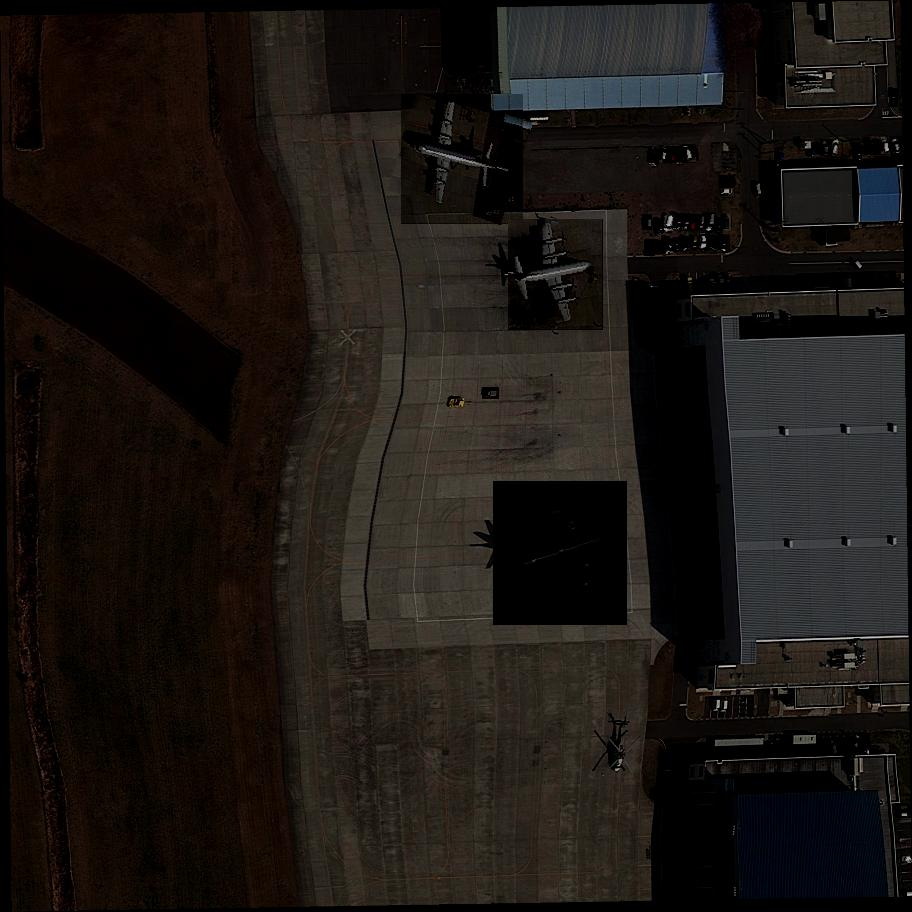large-vehicle: (482, 387, 500, 400)
plane: (493, 480, 628, 626), (392, 95, 528, 224), (508, 219, 604, 333)
small-vehicle: (681, 145, 696, 163), (889, 137, 903, 156), (830, 139, 843, 158), (821, 139, 834, 157), (719, 175, 737, 188), (665, 214, 677, 232), (644, 239, 656, 256), (675, 147, 687, 164), (667, 147, 679, 164), (718, 235, 731, 250), (671, 237, 683, 253), (699, 233, 710, 250), (881, 137, 892, 154), (706, 213, 717, 230), (889, 89, 899, 107), (654, 240, 666, 255), (852, 736, 863, 752), (754, 182, 765, 198), (724, 214, 734, 231), (713, 217, 723, 234), (690, 214, 700, 231), (895, 804, 910, 815), (861, 733, 870, 751), (642, 215, 652, 230), (832, 737, 840, 754), (675, 213, 683, 230), (710, 235, 719, 250), (683, 214, 691, 229), (666, 237, 673, 253), (898, 812, 912, 820), (649, 148, 656, 164), (660, 148, 668, 161), (682, 237, 689, 251), (864, 138, 870, 154), (691, 237, 699, 249), (856, 145, 863, 158), (699, 214, 705, 229), (722, 190, 734, 197), (903, 856, 910, 861)
